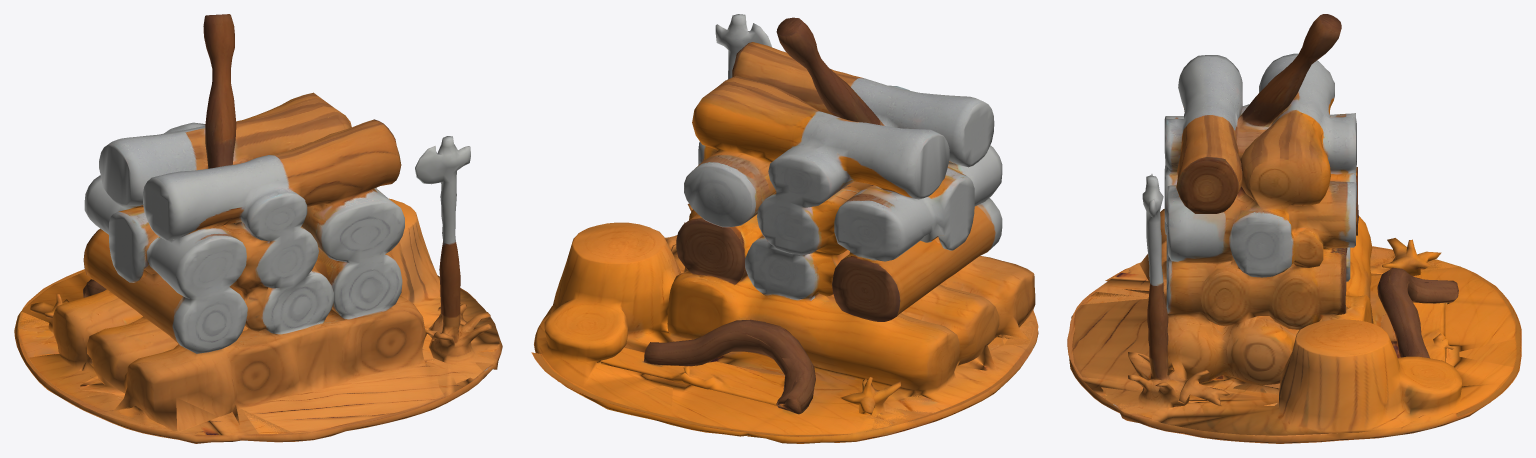
The model's file is prop_log_pile_v1.glb.
The picture shows the model from 3 angles, left to right: view 1: azimuth 30°, elevation 25°; view 2: azimuth 150°, elevation 25°; view 3: azimuth 270°, elevation 25°; orthographic projection. The views are drawn at different scales.
Size of the model in its own units: 1.9 by 1.47 by 1.85.
Materials: 1 (1 with a texture image).
